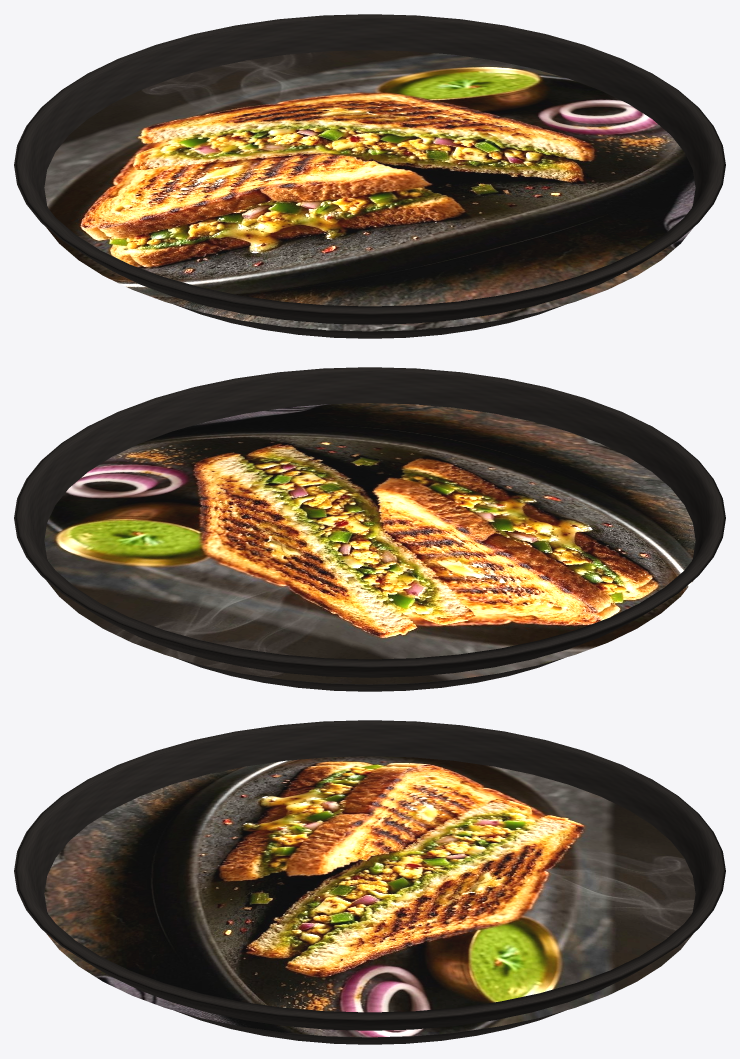
Rendered from paneer-sandwich.glb.
3 renders of one model, top to bottom at view 1: azimuth 30°, elevation 25°; view 2: azimuth 150°, elevation 25°; view 3: azimuth 270°, elevation 25°, orthographic.
Visible parts, largest first — view 1: FoodMound, StonewareVessel; view 2: FoodMound, StonewareVessel; view 3: FoodMound, StonewareVessel.
Boxes of the visible parts, left/top/right/bottom form: FoodMound: left=44, top=50, right=695, bottom=331; StonewareVessel: left=14, top=14, right=725, bottom=338; FoodMound: left=44, top=403, right=695, bottom=684; StonewareVessel: left=14, top=367, right=725, bottom=691; FoodMound: left=44, top=756, right=695, bottom=1037; StonewareVessel: left=14, top=720, right=725, bottom=1044.
Bounding box in the file's own units: 0.22 × 0.0225 × 0.22.
Materials: 2 (2 with a texture image).
